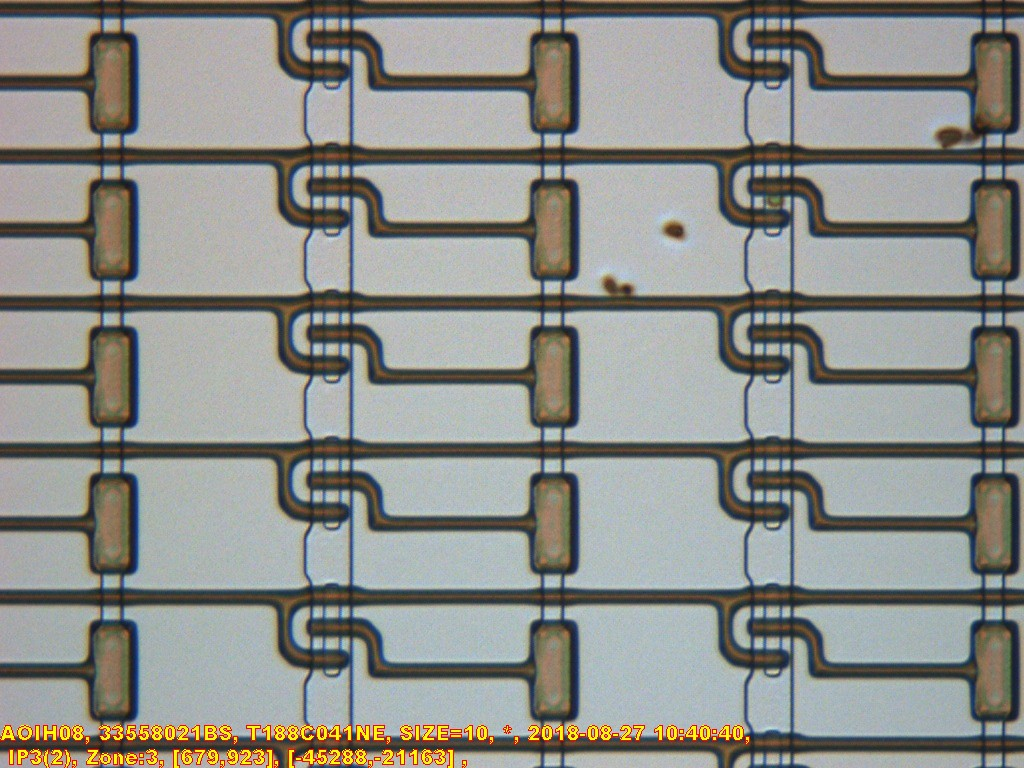good: (266, 138, 386, 237), (707, 137, 827, 236), (266, 284, 386, 383), (706, 284, 826, 383), (265, 431, 385, 530), (706, 431, 826, 530), (265, 578, 385, 677), (706, 578, 826, 677), (82, 29, 138, 133), (524, 29, 580, 133), (964, 29, 1020, 133), (83, 176, 139, 280), (964, 176, 1020, 280), (82, 323, 138, 427), (523, 323, 579, 427), (964, 323, 1020, 427), (82, 470, 138, 574), (523, 470, 579, 574), (964, 470, 1020, 574), (82, 617, 138, 721), (523, 617, 579, 721), (964, 617, 1020, 721), (524, 178, 579, 280)
